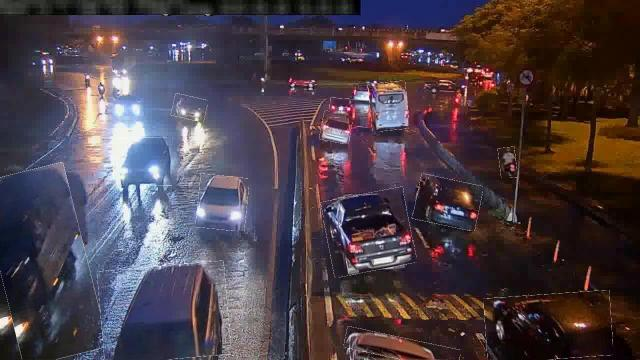Bike: (499, 148, 517, 178)
Bus: (369, 81, 408, 131)
Car: (98, 263, 230, 359), (485, 292, 613, 360), (324, 190, 414, 274), (414, 176, 482, 228), (344, 332, 461, 360), (114, 138, 174, 186), (196, 176, 248, 230), (321, 112, 352, 144), (172, 96, 206, 120), (330, 98, 354, 118)
Truck: (0, 165, 98, 359)
